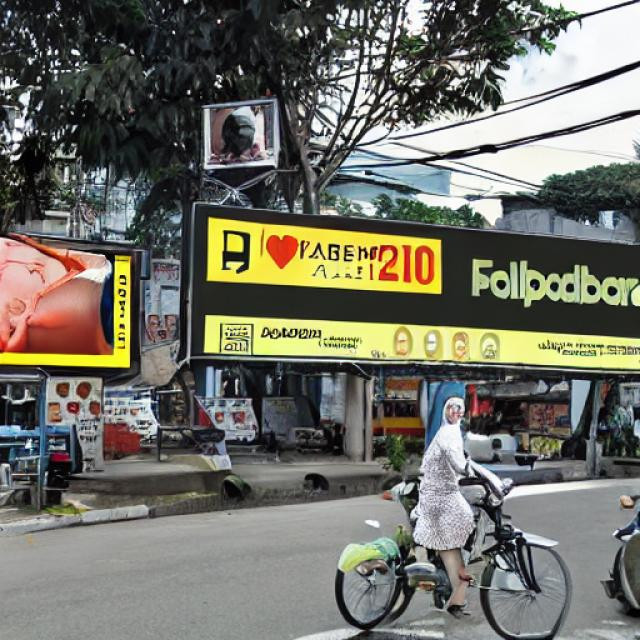Billboard: (179, 198, 640, 380), (0, 230, 142, 377)
